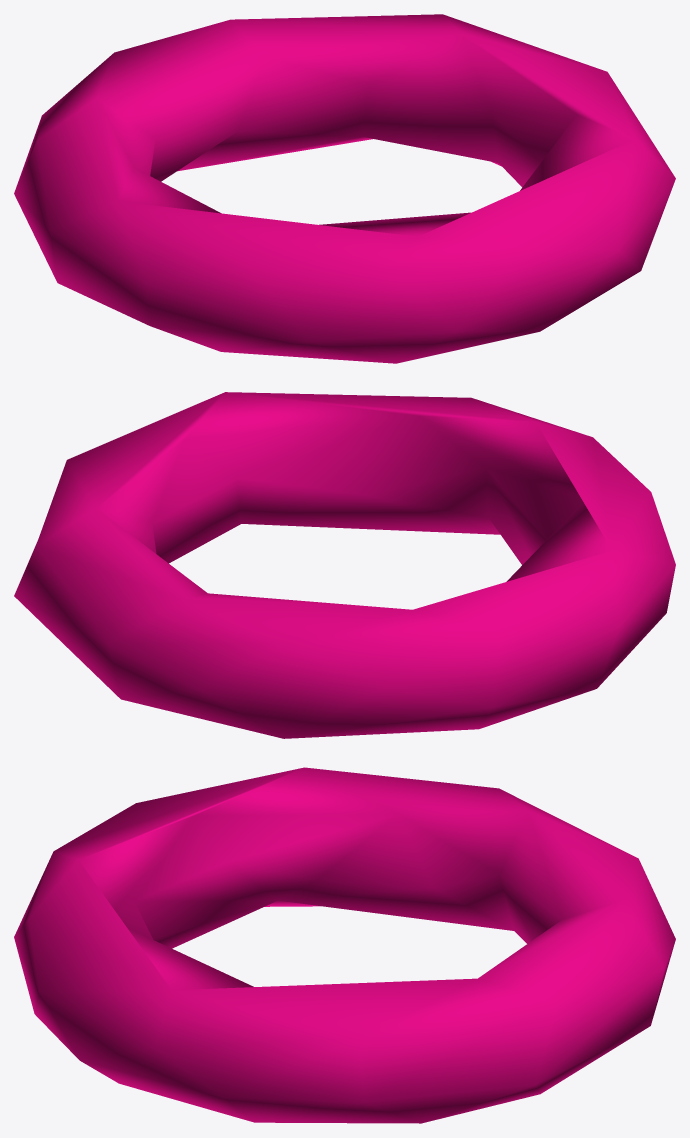
3 views of the same model, one above another, from view 1: azimuth 30°, elevation 25°; view 2: azimuth 150°, elevation 25°; view 3: azimuth 270°, elevation 25° (orthographic).
Parts seen in each view (by area): view 1: Torus; view 2: Torus; view 3: Torus.
Boxes of the visible parts, x1,y1,x2,y2 form: Torus: (14, 14, 675, 363); Torus: (14, 392, 675, 738); Torus: (14, 767, 675, 1123).
Size of the model in its own units: 251 by 50.15 by 250.
